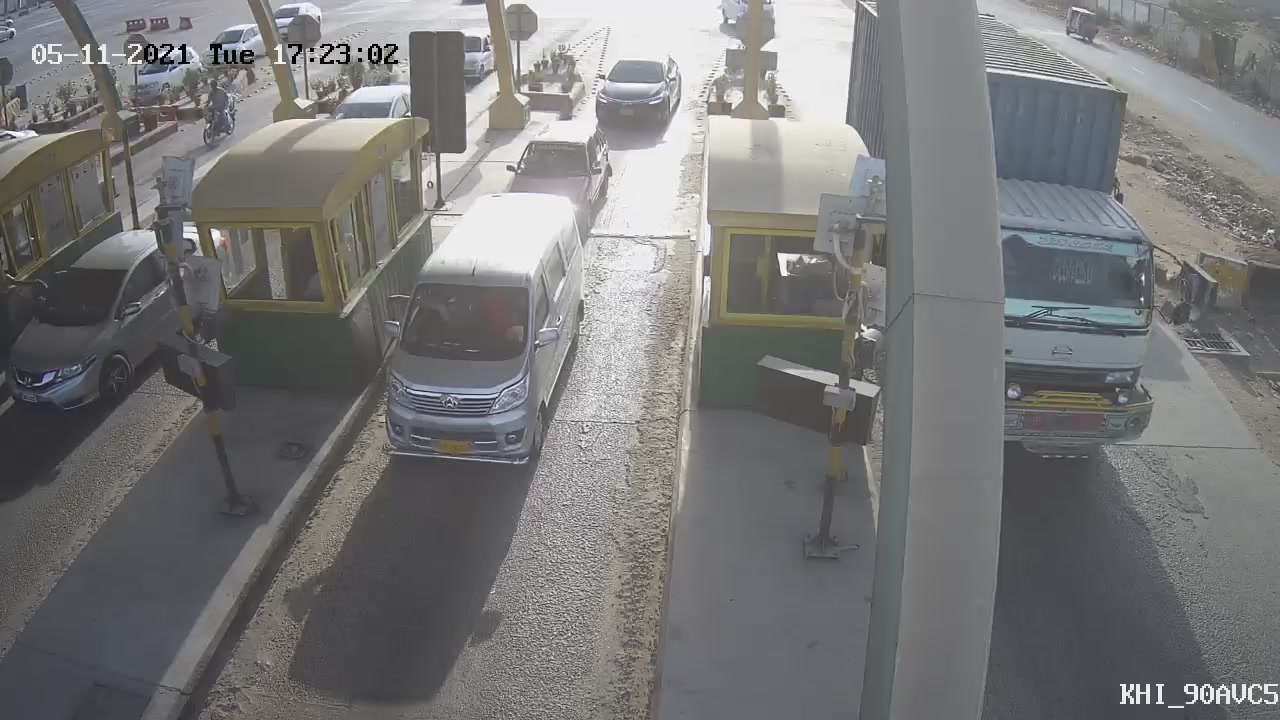F1: (360, 175, 613, 494)
